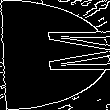M_W: (5, 31, 105, 79)
